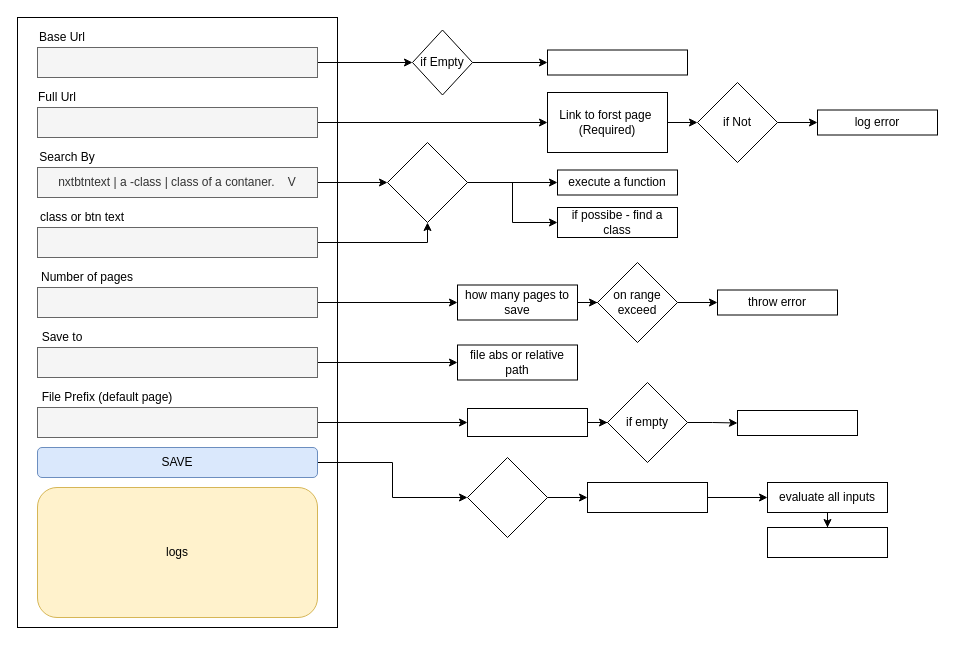
Image size: 955x645. Some labels were removed from this diagram. The shapes that lost their labels are listed below. From the top down, each one's box as (x1, y1, x2, y2) in pixels, then its label:
(546, 49, 688, 75): => Uses full url in a tag
(386, 142, 468, 222): On-select
(466, 408, 588, 436): file pages prefix
(736, 410, 858, 436): default page
(466, 456, 548, 538): on click
(586, 482, 708, 512): disable
(766, 526, 888, 558): start saving
